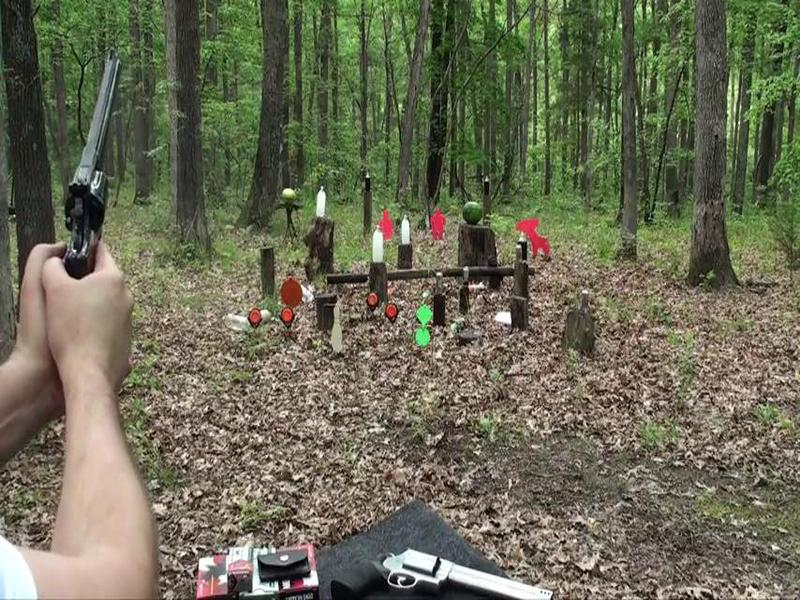Revolver: (45, 48, 141, 294)
